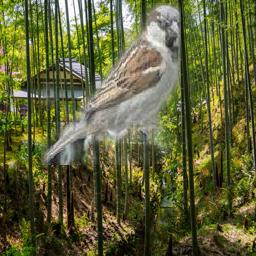Sparrow: (41, 3, 181, 165)
